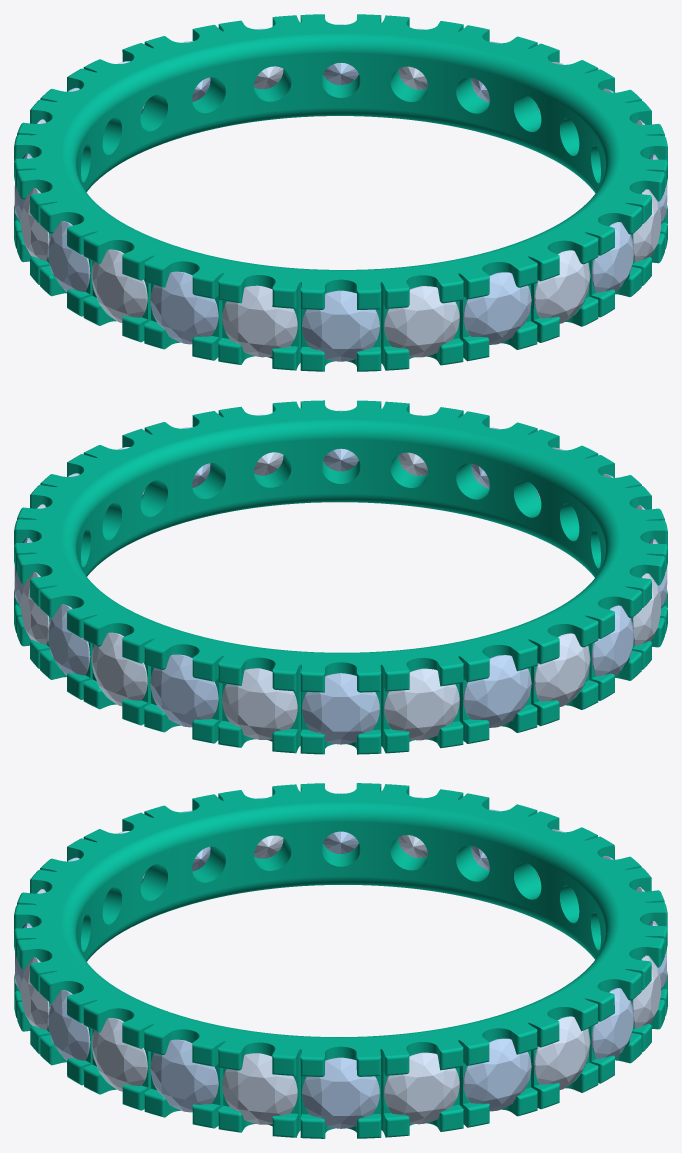
3 views of the same model, one above another, from view 1: azimuth 30°, elevation 25°; view 2: azimuth 150°, elevation 25°; view 3: azimuth 270°, elevation 25° (orthographic).
Visible parts, largest first — view 1: VR-80 2(base).3dm, Diamond_Round (×12); view 2: VR-80 2(base).3dm, Diamond_Round (×14); view 3: VR-80 2(base).3dm, Diamond_Round (×13).
Part boxes in pixels (left/top/right/bottom): VR-80 2(base).3dm: left=14, top=14, right=667, bottom=371; Diamond_Round (×12): left=21, top=24, right=660, bottom=361; VR-80 2(base).3dm: left=14, top=400, right=667, bottom=754; Diamond_Round (×14): left=21, top=410, right=660, bottom=744; VR-80 2(base).3dm: left=14, top=783, right=667, bottom=1138; Diamond_Round (×13): left=21, top=793, right=660, bottom=1128.
Bounding box in the file's own units: 2.81 × 0.3966 × 2.82.
